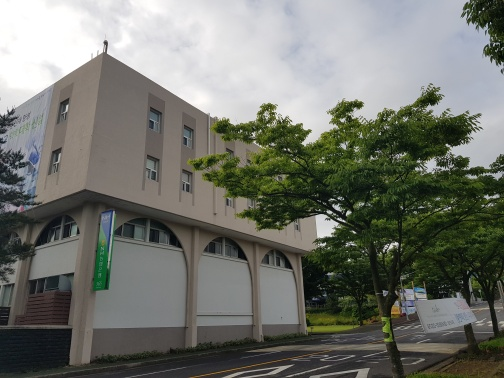Main Building of University: (8, 53, 321, 346), (116, 212, 295, 272), (138, 88, 202, 211), (95, 205, 112, 294)
